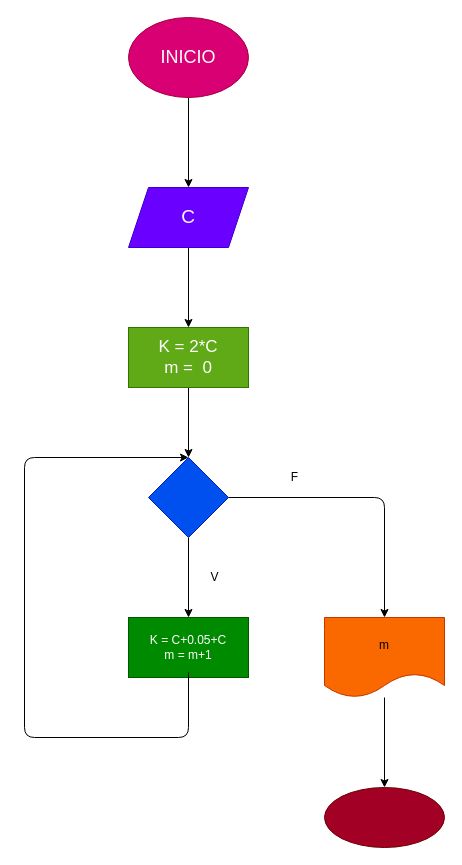
Some shapes in this 462 by 865 pixel diagram are drawn without their labels. Each missing label, with the centre of its shape:
"C>K" goes at pixel 188 497.
"FIN" goes at pixel 384 817.
